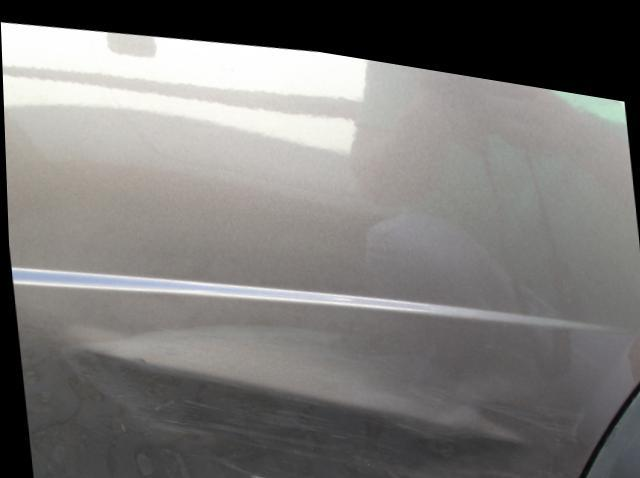dent: (52, 289, 535, 478)
